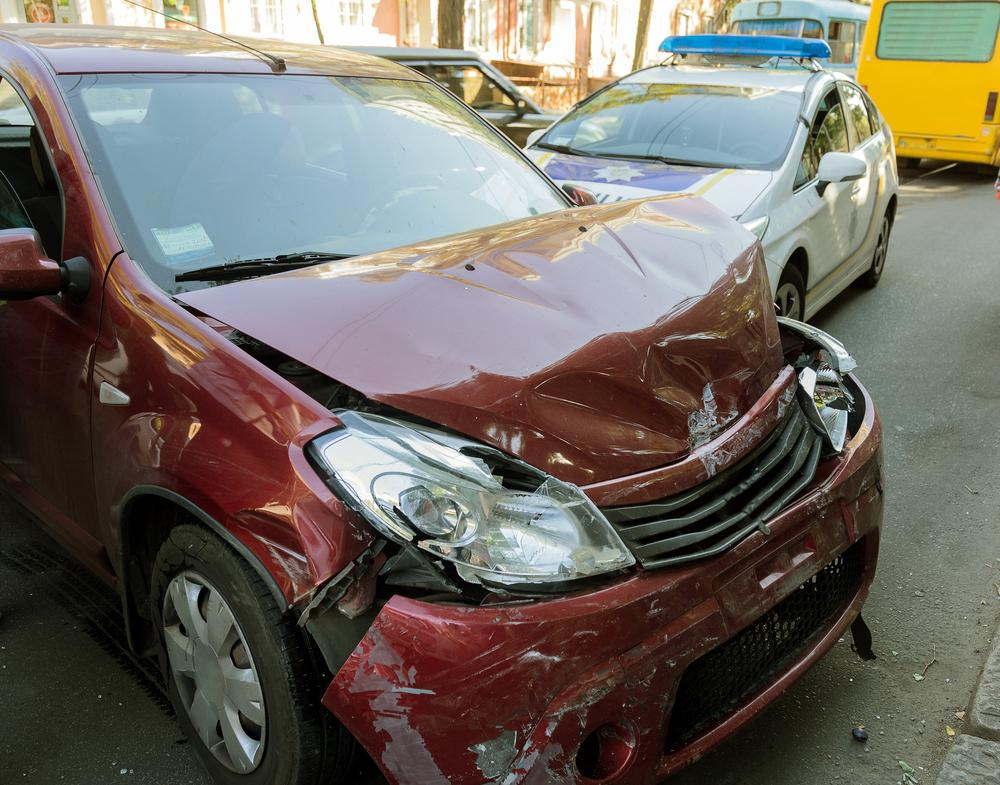dent: (452, 192, 775, 476), (235, 509, 314, 594)
lamp broken: (300, 418, 632, 584), (774, 315, 863, 453)
scratch: (324, 594, 659, 785), (698, 382, 792, 477)
